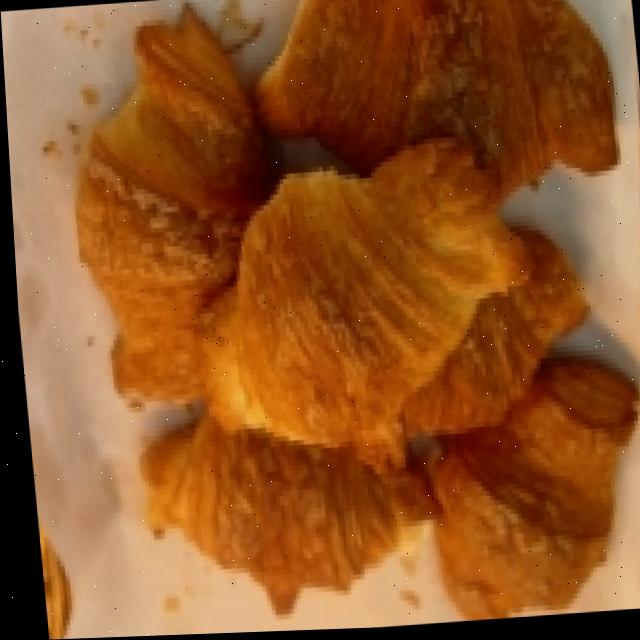面包点心: (55, 0, 640, 638)
